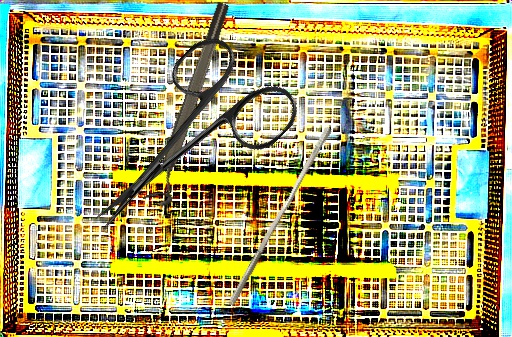Fixation Ring: (142, 0, 242, 209)
Iris Scissors: (55, 21, 307, 273)
Pusher: (227, 123, 333, 310)
